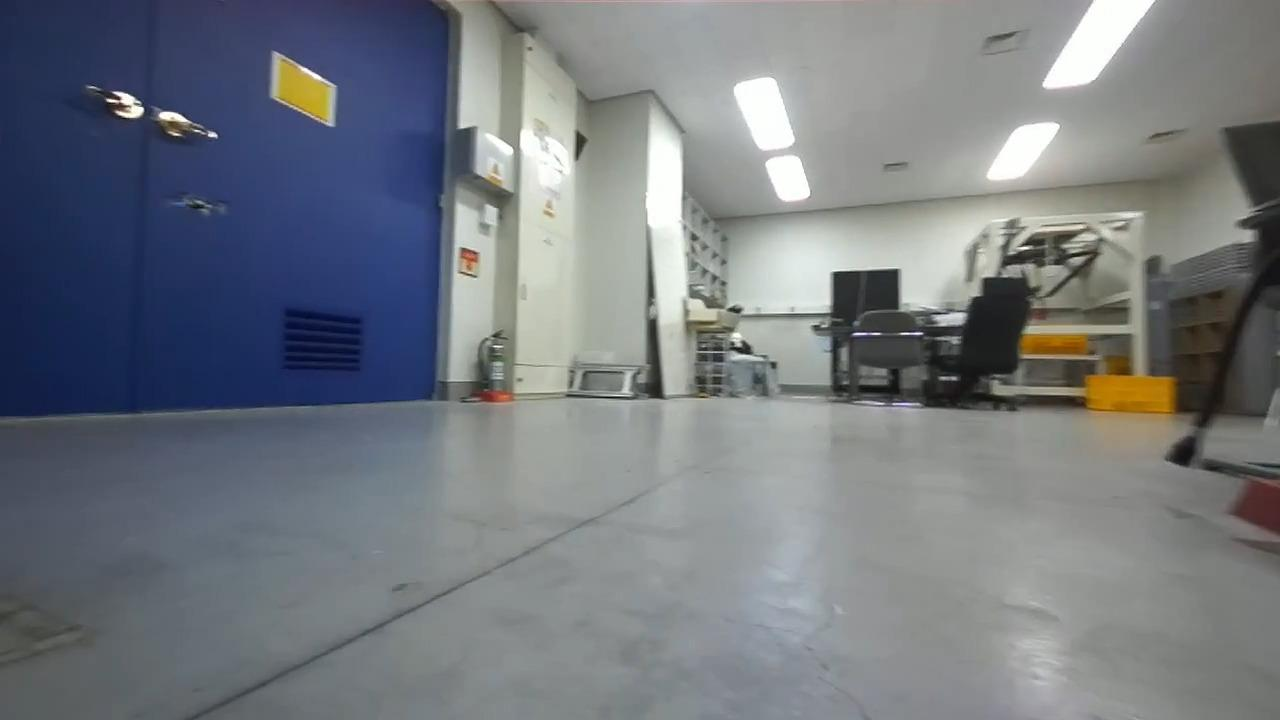crazyflie: (159, 184, 234, 223)
